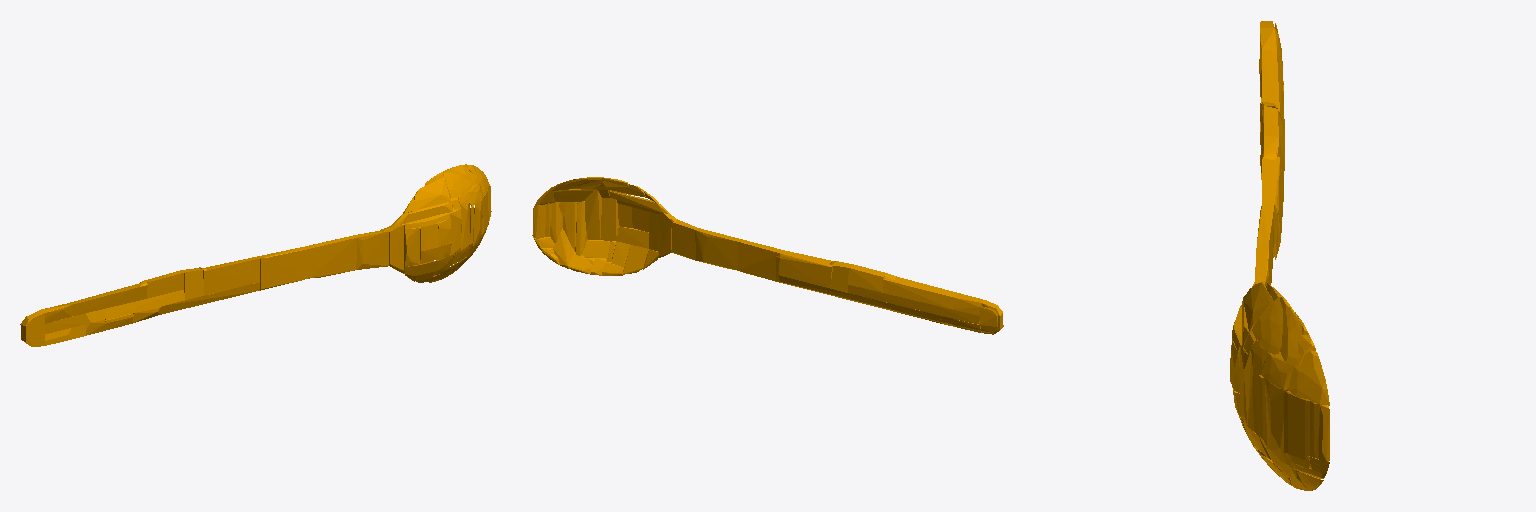
robot.urdf — cutlery-spoon:
<?xml version="1.0" ?>
<robot name="cutlery-spoon">
  <link name="baseLink">
    <contact>
      <lateral_friction value="1.0"/>
      <inertia_scaling value="3.0"/>
    </contact>
    <inertial>
      <origin rpy="0 0 0" xyz="0.000 0.000 0.000"/>
       <mass value=".1"/>
       <inertia ixx="1" ixy="0.0" ixz="0.0" iyy="1" iyz="0.0" izz="1"/>
    </inertial>
    <visual>
      <origin rpy="0 0 0" xyz="0 0 0"/>
      <geometry>
        <mesh filename="cutlery/cutlery-spoon_1.obj" scale="1.0 1.0 1.0"/>
      </geometry>
    </visual>
    <collision>
      <origin rpy="0 0 0" xyz="0 0 0"/>
      <geometry>
        <mesh filename="../collision/cutlery/cutlery-spoon_1.obj" scale="1.0 1.0 1.0"/>
      </geometry>
    </collision>
  </link>
</robot>
        

--- Facts derived from the render (not from the file) ---
The picture shows the robot from 3 angles, left to right: view 1: azimuth 30°, elevation 25°; view 2: azimuth 150°, elevation 25°; view 3: azimuth 270°, elevation 25°; orthographic projection.
Robot: cutlery-spoon — 1 links, 0 joints (none); root link baseLink; default pose: all joints at 0.
Visible links, largest first — view 1: baseLink; view 2: baseLink; view 3: baseLink.
Boxes of the visible links, x1,y1,x2,y2 form: baseLink: [20, 164, 491, 346]; baseLink: [532, 177, 1003, 334]; baseLink: [1230, 21, 1329, 490].
Size in the robot's own frame: 0.1436 by 0.0153 by 0.0299 metres.
Meshes: 1 distinct files referenced, 1 mesh visuals loaded (1 OBJ).